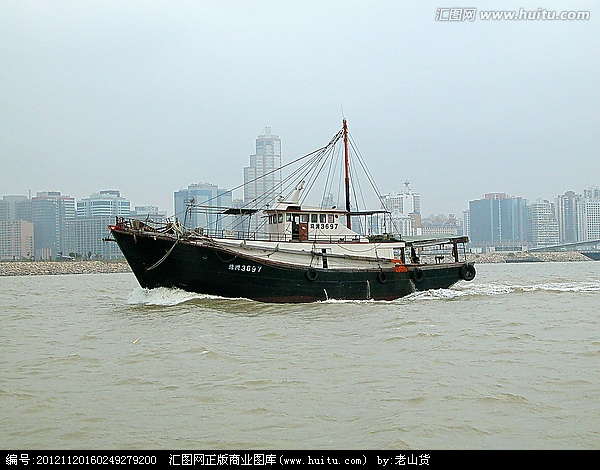otherboat: (104, 116, 476, 307)
